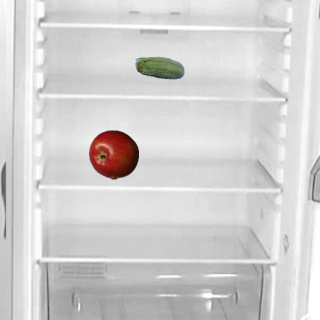Apple Braeburn: (88, 129, 138, 179)
Corn Husk: (134, 44, 184, 94)
